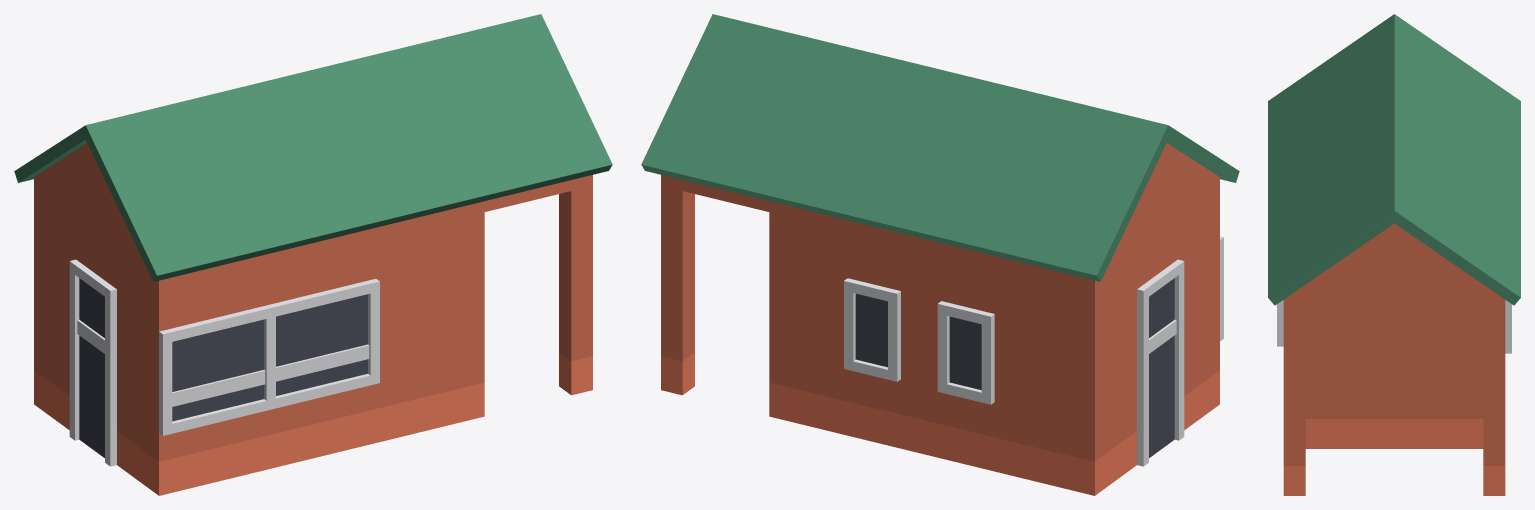
File: house.fbx
3 renders of one model, left to right at view 1: azimuth 30°, elevation 25°; view 2: azimuth 150°, elevation 25°; view 3: azimuth 270°, elevation 25°, orthographic. The views are drawn at different scales.
Visible parts, largest first — view 1: roof_3, block_0, roof_2, block_columns_1, window_width_5, door_6; view 2: block_0, roof_3, roof_2, block_columns_1, window_small_double_4, door_6; view 3: roof_2, block_columns_1, roof_3, window_small_double_4, window_width_5.
Part boxes in pixels (box(x1,y1,x2,y2)): roof_3: box(14, 67, 395, 281); block_0: box(34, 177, 375, 495); roof_2: box(304, 14, 612, 228); block_columns_1: box(376, 175, 592, 442); window_width_5: box(159, 279, 379, 435); door_6: box(69, 259, 116, 466); block_0: box(878, 177, 1219, 495); roof_3: box(858, 67, 1239, 281); roof_2: box(641, 14, 949, 228); block_columns_1: box(661, 175, 877, 442); window_small_double_4: box(844, 278, 994, 404); door_6: box(1137, 259, 1184, 466); roof_2: box(1268, 108, 1520, 305); block_columns_1: box(1283, 295, 1505, 495); roof_3: box(1268, 14, 1520, 194); window_small_double_4: box(1505, 300, 1511, 353); window_width_5: box(1277, 300, 1283, 346).
Bounding box in the file's own units: 21 × 14.43 × 11.4.
